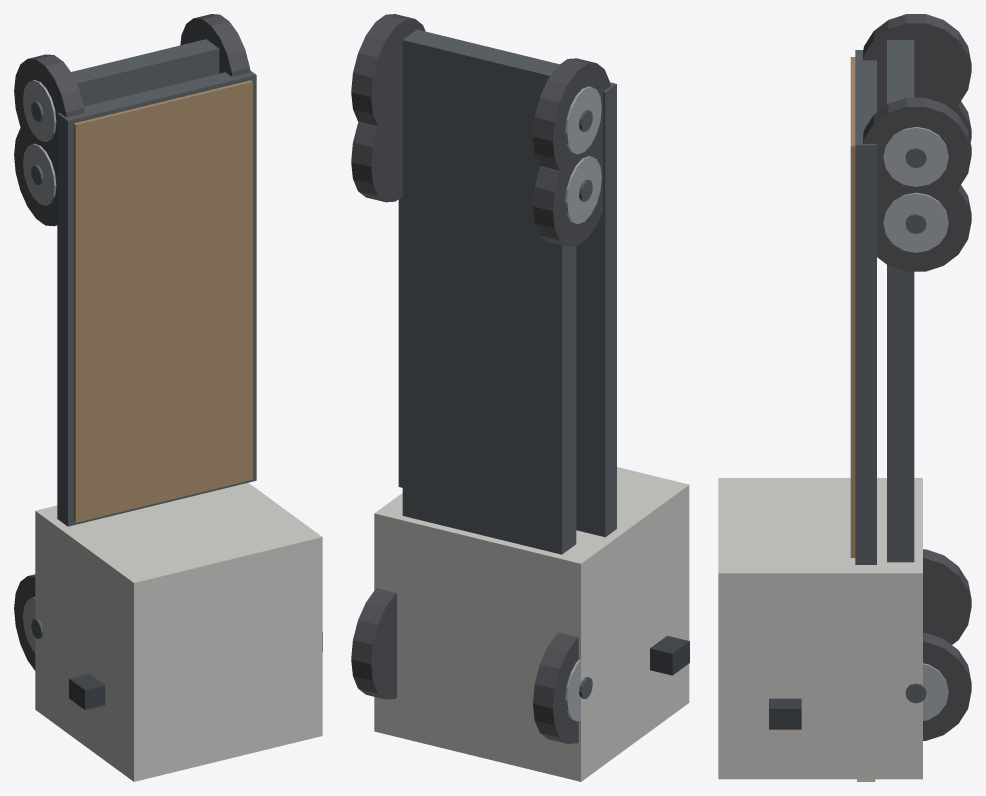
File: flatbed_truck.glb
3 renders of one model, left to right at view 1: azimuth 30°, elevation 25°; view 2: azimuth 150°, elevation 25°; view 3: azimuth 270°, elevation 25°, orthographic. The views are drawn at different scales.
Visible parts, largest first — view 1: 0009_Flatbed_wood, 0001_Cab_body, 0008_Flatbed_platform, 0000_Truck_chassis, 0022_Wheel_tire, 0025_Wheel_tire, 0016_Wheel_tire, 0023_Wheel_rim, 0017_Wheel_rim, 0006_Side_mirror, 0010_Wheel_tire; view 2: 0000_Truck_chassis, 0001_Cab_body, 0008_Flatbed_platform, 0025_Wheel_tire, 0022_Wheel_tire, 0013_Wheel_tire, 0019_Wheel_tire, 0016_Wheel_tire, 0010_Wheel_tire, 0017_Wheel_rim, 0023_Wheel_rim, 0006_Side_mirror (+1 smaller); view 3: 0001_Cab_body, 0008_Flatbed_platform, 0000_Truck_chassis, 0022_Wheel_tire, 0025_Wheel_tire, 0019_Wheel_tire, 0010_Wheel_tire, 0013_Wheel_tire, 0009_Flatbed_wood, 0020_Wheel_rim, 0026_Wheel_rim, 0014_Wheel_rim (+2 smaller).
Part boxes in pixels (x1,y1,x2,y2): 0009_Flatbed_wood: [73, 80, 252, 522]; 0001_Cab_body: [35, 482, 322, 781]; 0008_Flatbed_platform: [57, 70, 256, 526]; 0000_Truck_chassis: [71, 39, 219, 106]; 0022_Wheel_tire: [14, 54, 84, 150]; 0025_Wheel_tire: [180, 14, 250, 76]; 0016_Wheel_tire: [14, 123, 57, 226]; 0023_Wheel_rim: [23, 80, 56, 141]; 0017_Wheel_rim: [23, 143, 56, 205]; 0006_Side_mirror: [69, 673, 105, 709]; 0010_Wheel_tire: [14, 574, 35, 670]; 0000_Truck_chassis: [402, 29, 576, 554]; 0001_Cab_body: [374, 467, 689, 781]; 0008_Flatbed_platform: [398, 82, 616, 537]; 0025_Wheel_tire: [351, 14, 425, 131]; 0022_Wheel_tire: [533, 58, 610, 172]; 0013_Wheel_tire: [351, 588, 396, 699]; 0019_Wheel_tire: [351, 92, 402, 202]; 0016_Wheel_tire: [533, 133, 602, 246]; 0010_Wheel_tire: [533, 632, 578, 743]; 0017_Wheel_rim: [565, 156, 601, 224]; 0023_Wheel_rim: [565, 86, 601, 154]; 0006_Side_mirror: [650, 636, 689, 675]; 0001_Cab_body: [718, 478, 922, 779]; 0008_Flatbed_platform: [855, 50, 876, 564]; 0000_Truck_chassis: [887, 40, 914, 562]; 0022_Wheel_tire: [863, 14, 971, 109]; 0025_Wheel_tire: [863, 97, 971, 200]; 0019_Wheel_tire: [877, 177, 971, 271]; 0010_Wheel_tire: [923, 549, 971, 644]; 0013_Wheel_tire: [923, 633, 971, 740]; 0009_Flatbed_wood: [850, 57, 855, 557]; 0020_Wheel_rim: [883, 192, 948, 252]; 0026_Wheel_rim: [883, 127, 948, 186]; 0014_Wheel_rim: [923, 663, 948, 720].
Bounding box in the file's own units: 3.13 × 8.23 × 2.79.
